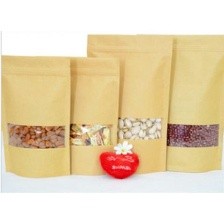snack: (82, 28, 177, 178), (133, 28, 223, 176), (0, 50, 76, 182), (46, 53, 124, 179)
